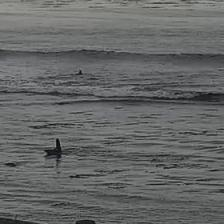surfer: (75, 70, 83, 75)
